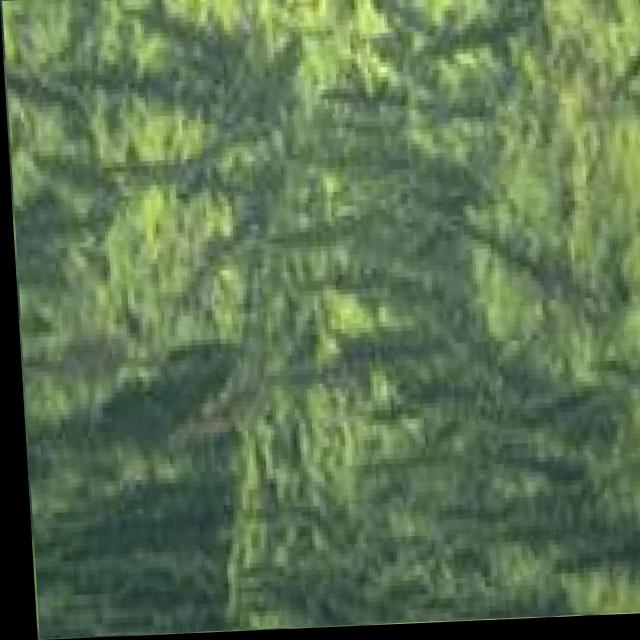nofire: (1, 0, 640, 640)
